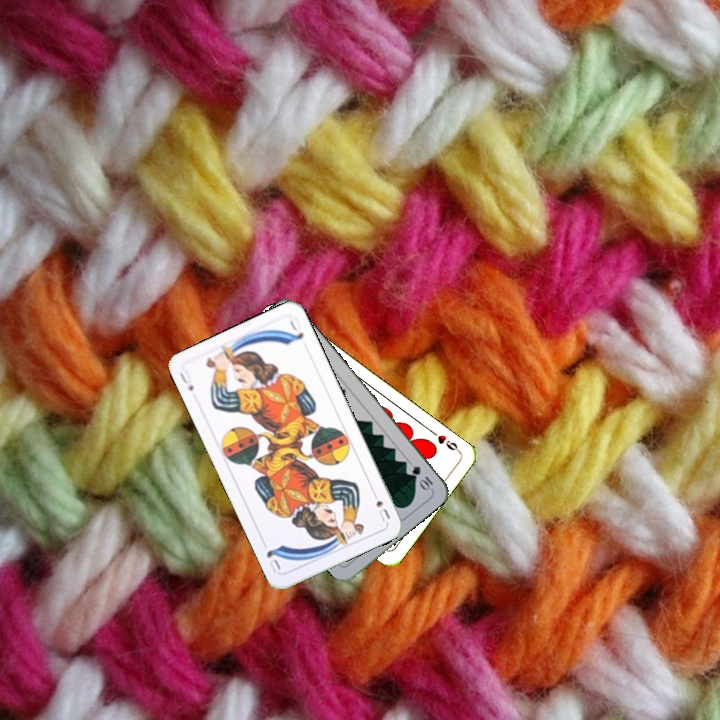G10: (408, 462, 436, 493)
H9: (427, 426, 462, 455)
SU: (368, 486, 393, 524), (175, 366, 196, 393)
